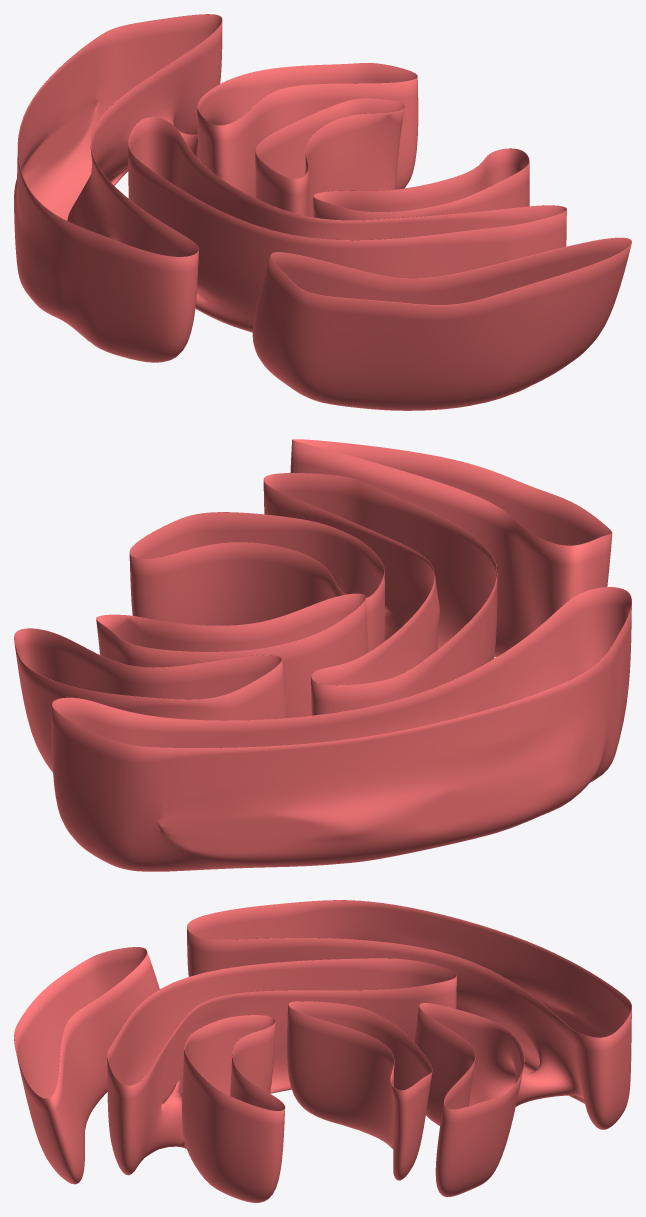
Rendered from Endoplasmatic v7.glb.
3 views of the same model, one above another, from view 1: azimuth 30°, elevation 25°; view 2: azimuth 150°, elevation 25°; view 3: azimuth 270°, elevation 25° (orthographic). The views are drawn at different scales.
Parts seen in each view (by area): view 1: Cube.005; view 2: Cube.005; view 3: Cube.005.
Part boxes in pixels (x1=…): Cube.005: x1=14, y1=14, x2=631, y2=410; Cube.005: x1=14, y1=439, x2=631, y2=871; Cube.005: x1=14, y1=900, x2=631, y2=1202.
Bounding box in the file's own units: 6.21 × 2.1 × 8.53.
